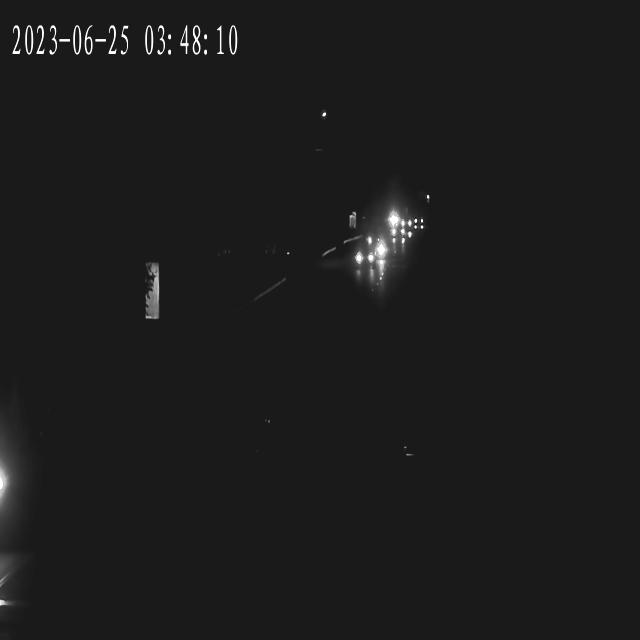Car: (0, 419, 37, 544), (351, 246, 376, 270), (363, 232, 387, 256), (398, 204, 412, 230), (390, 228, 408, 244), (414, 214, 424, 239)
